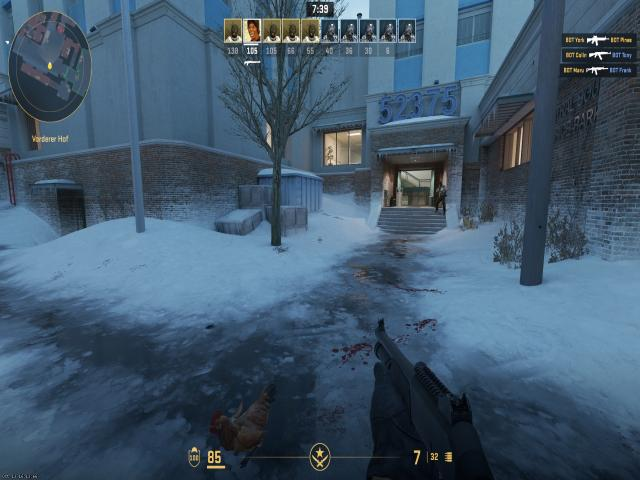T: (437, 180, 447, 210)
T-Head: (439, 181, 443, 186)
